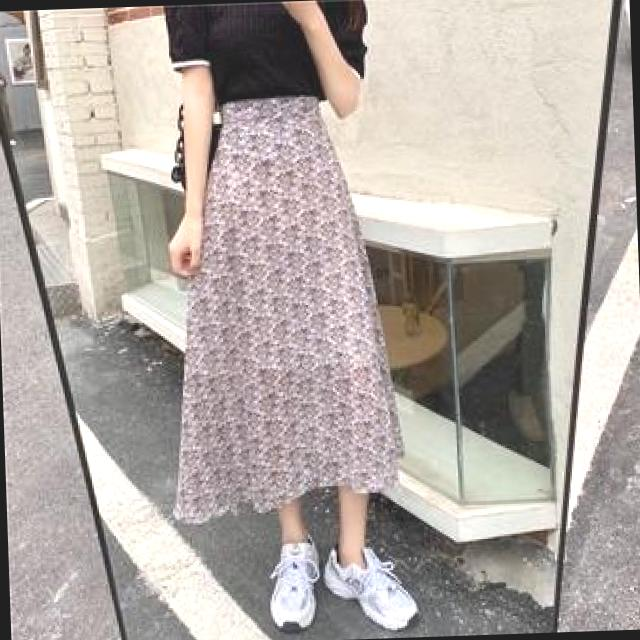Tshirt: (151, 0, 403, 130)
skirt: (158, 98, 428, 558)
